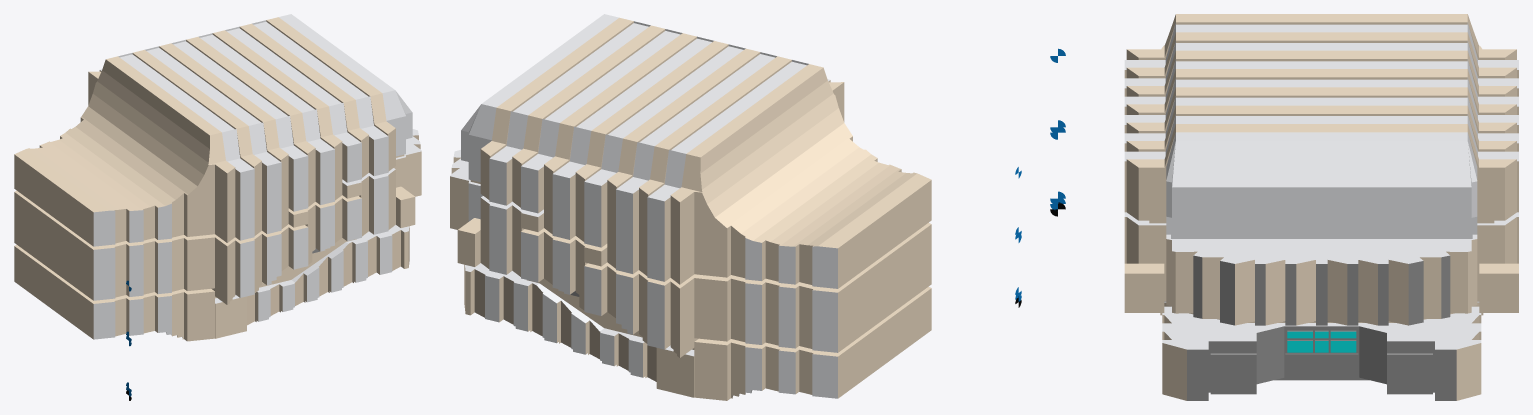
The model's file is keio_fujiwara.glb.
3 renders of one model, left to right at view 1: azimuth 30°, elevation 25°; view 2: azimuth 150°, elevation 25°; view 3: azimuth 270°, elevation 25°, orthographic. The views are drawn at different scales.
Visible parts, largest first — view 1: 3DGeom~3, keio_fujiwara_modify.dwg (1), 3DGeom~4; view 2: 3DGeom~3, keio_fujiwara_modify.dwg (1), 3DGeom~4; view 3: keio_fujiwara_modify.dwg (1), 3DGeom~3, 3DGeom~1, 3DGeom~4.
Boxes of the visible parts, x1,y1,x2,y2 form: 3DGeom~3: (14, 17, 421, 341); keio_fujiwara_modify.dwg (1): (93, 14, 421, 339); 3DGeom~4: (14, 70, 415, 338); 3DGeom~3: (450, 17, 931, 400); keio_fujiwara_modify.dwg (1): (450, 14, 837, 398); 3DGeom~4: (457, 136, 931, 397); keio_fujiwara_modify.dwg (1): (1124, 22, 1518, 352); 3DGeom~3: (1124, 14, 1518, 325); 3DGeom~1: (1187, 255, 1456, 400); 3DGeom~4: (1124, 70, 1518, 400).
Bounding box in the file's own units: 28.96 × 16.06 × 23.79.
